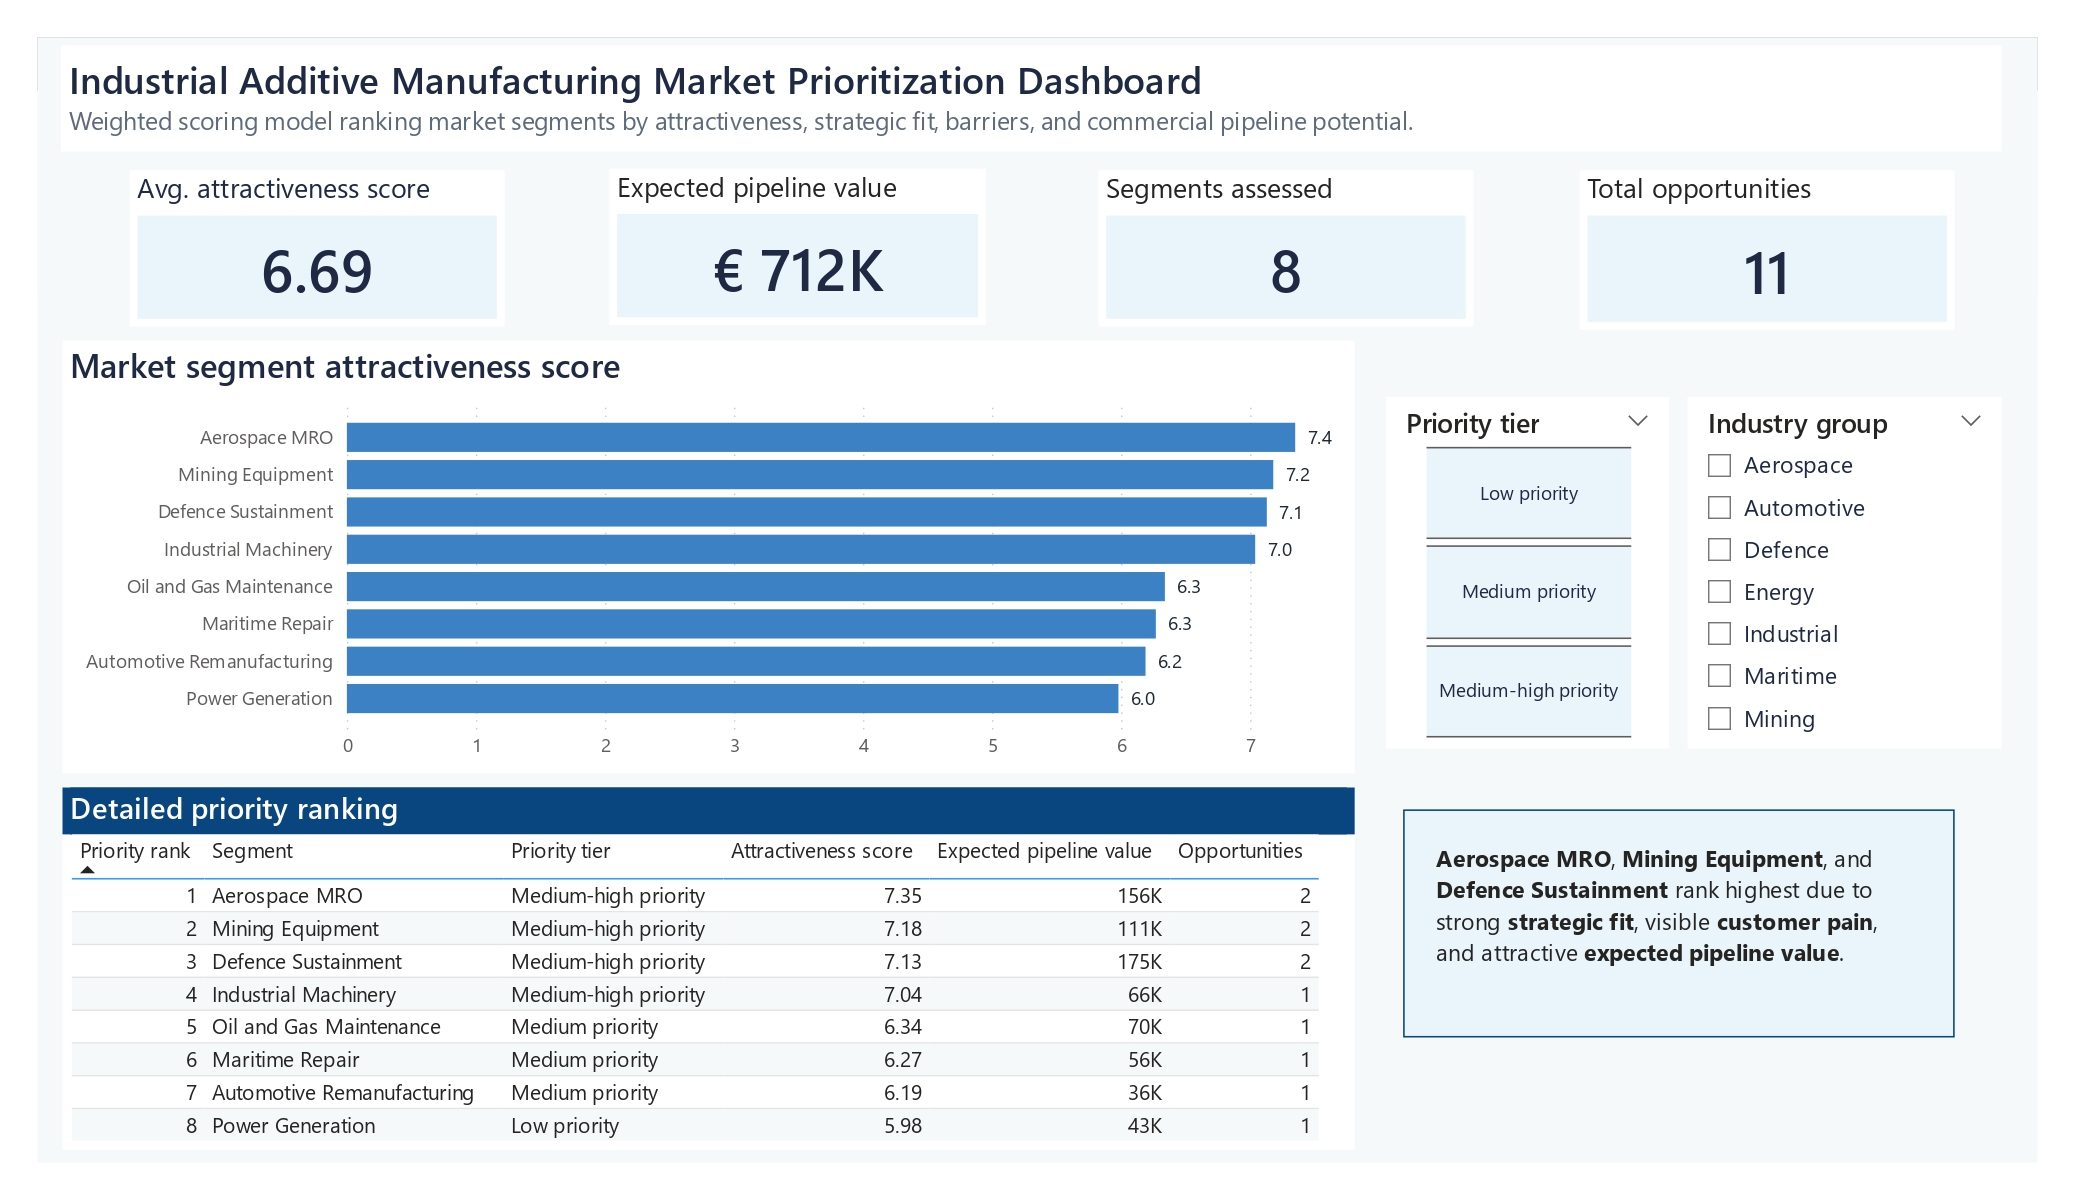

The dashboard page shown, as its layout file describes it:
{"tool":"powerbi","page":{"name":"Page 1","canvas":[1280,720],"ordinal":0},"visuals":[{"type":"clusteredBarChart","title":"Market segment attractiveness score","fields":{"Category":["market_prioritization_scores.segment_name"],"Y":["Sum(market_prioritization_scores.attractiveness_score)"]},"box":[15.7,193.6,827.1,277.1],"z":0},{"type":"cardVisual","title":"Avg. attractiveness score","fields":{"Data":["Avg(market_prioritization_scores.attractiveness_score)"]},"box":[59,85.1,240.1,100.2],"z":1000},{"type":"cardVisual","title":"Expected pipeline value","fields":{"Data":["Sum(market_prioritization_scores.expected_pipeline_value_eur)"]},"box":[366.4,83.7,240.1,100.2],"z":2000},{"type":"cardVisual","title":"Total opportunities","fields":{"Data":["Sum(market_prioritization_scores.opportunity_count)"]},"box":[986.6,85.1,240.1,101.5],"z":3000},{"type":"cardVisual","title":"Segments assessed","fields":{"Data":["Count(market_prioritization_scores.segment_name)"]},"box":[679.2,85.1,240.1,100.2],"z":4000},{"type":"tableEx","title":"Detailed priority ranking","fields":{"Values":["Sum(market_prioritization_scores.priority_rank)","Min(market_prioritization_scores.segment_name)","Min(market_prioritization_scores.priority_tier)","Sum(market_prioritization_scores.attractiveness_score)","Sum(market_prioritization_scores.expected_pipeline_value_eur)","Sum(market_prioritization_scores.opportunity_count)"]},"box":[16,480,827,232],"z":5000},{"type":"slicer","fields":{"Values":["market_prioritization_scores.industry_group"]},"box":[1055.7,229.7,201.4,225.7],"z":6000},{"type":"slicer","fields":{"Values":["market_prioritization_scores.priority_tier"]},"box":[862.9,229.7,181.4,225.7],"z":7000},{"type":"textbox","box":[15.5,5.5,1241.8,67.3],"z":8000},{"type":"textbox","box":[874.3,494.3,352.9,145.7],"z":9000}]}

Visuals, with their boxes on the page's 1280x720 design canvas (x1, y1, x2, y2). These are canvas units, not pixel positions in the 2075x1200 screenshot, which may show the page scaled, cropped or inside an application window:
"Market segment attractiveness score" clusteredBarChart: crop(16, 194, 843, 471)
"Avg. attractiveness score" cardVisual: crop(59, 85, 299, 185)
"Expected pipeline value" cardVisual: crop(366, 84, 606, 184)
"Total opportunities" cardVisual: crop(987, 85, 1227, 187)
"Segments assessed" cardVisual: crop(679, 85, 919, 185)
"Detailed priority ranking" tableEx: crop(16, 480, 843, 712)
slicer - market_prioritization_scores.industry_group: crop(1056, 230, 1257, 455)
slicer - market_prioritization_scores.priority_tier: crop(863, 230, 1044, 455)
textbox: crop(16, 6, 1257, 73)
textbox: crop(874, 494, 1227, 640)
